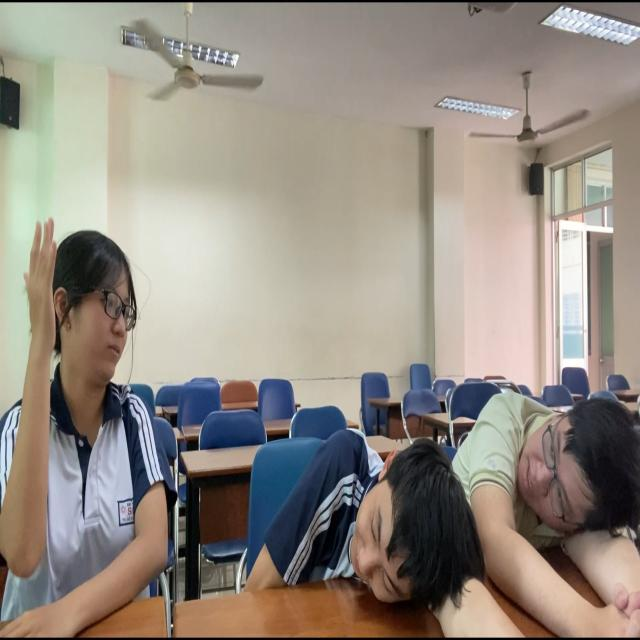raise_hand: (1, 214, 179, 640)
sleep: (258, 407, 471, 640), (451, 379, 640, 581)
